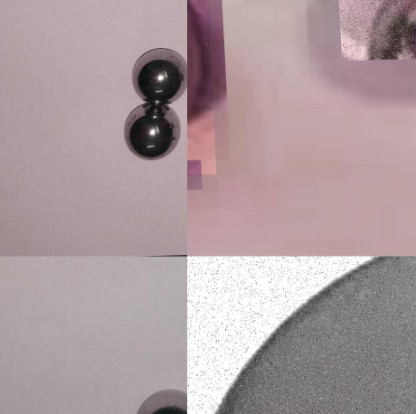ironball: (187, 256, 415, 413), (335, 0, 415, 61), (128, 97, 186, 165), (130, 45, 195, 99)
